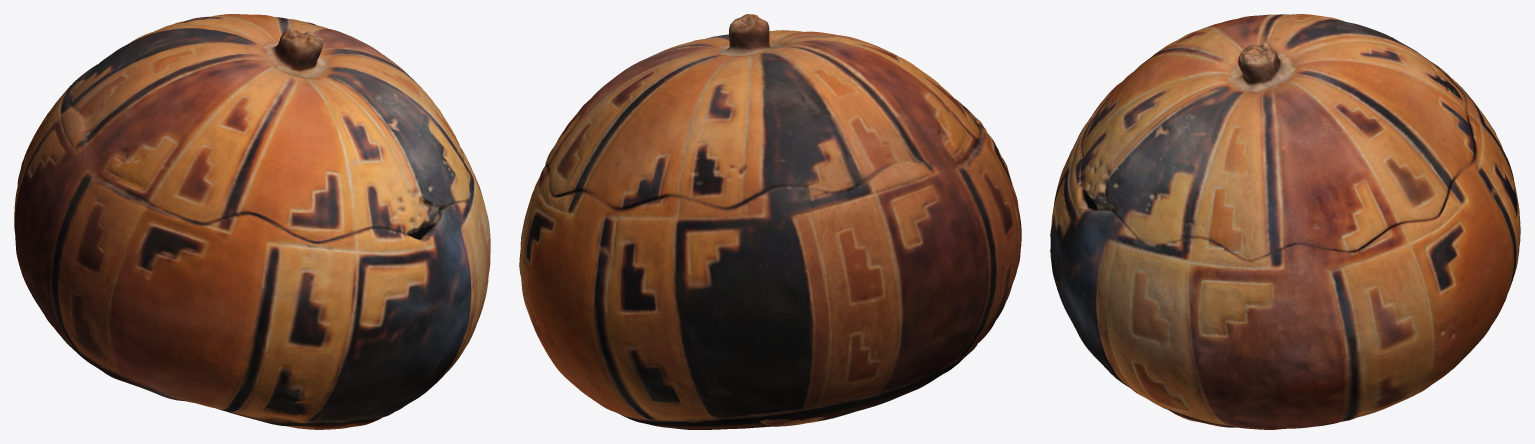
The picture shows the model from 3 angles, left to right: view 1: azimuth 30°, elevation 25°; view 2: azimuth 150°, elevation 25°; view 3: azimuth 270°, elevation 25°; orthographic projection. The views are drawn at different scales.
Visible parts, largest first — view 1: b6202486-ce98-4f91-b43d-22edfe2b2683; view 2: b6202486-ce98-4f91-b43d-22edfe2b2683; view 3: b6202486-ce98-4f91-b43d-22edfe2b2683.
Boxes of the visible parts, bbox=[...] form: b6202486-ce98-4f91-b43d-22edfe2b2683: bbox=[14, 14, 490, 429]; b6202486-ce98-4f91-b43d-22edfe2b2683: bbox=[519, 14, 1021, 429]; b6202486-ce98-4f91-b43d-22edfe2b2683: bbox=[1050, 14, 1520, 429].
Size of the model in its own units: 1.09 by 0.9121 by 1.11.
Materials: 1 (1 with a texture image).
